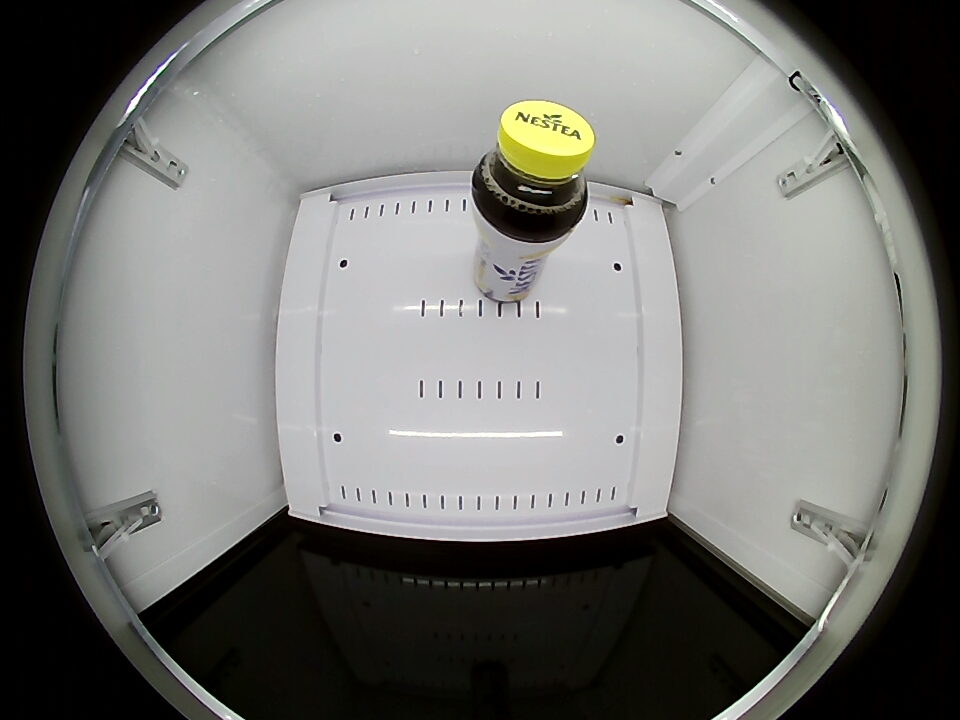chacui: (471, 100, 595, 240)
